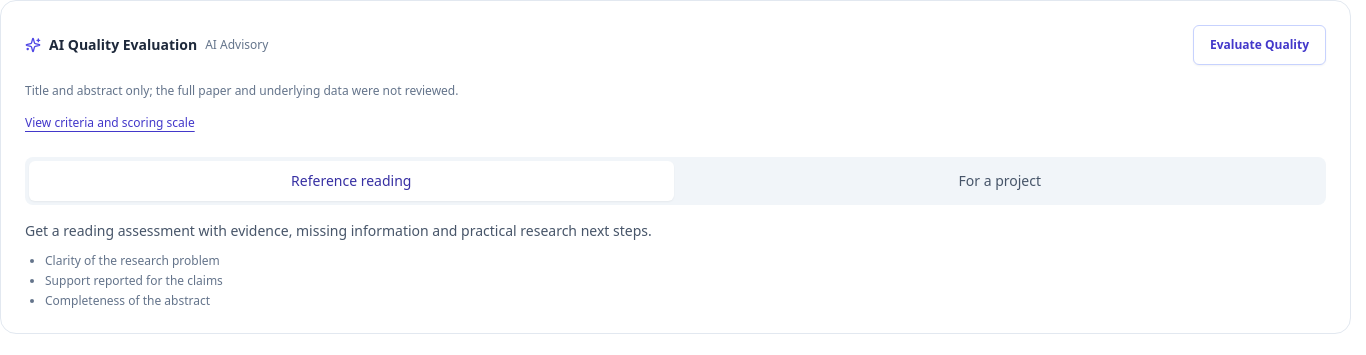
Test case: project mode › explains and links to project creation when the reader has no project
The width and height of the screenshot is (1366, 355).
Click the button "For a project": (1000, 180) [678, 160, 1322, 200]
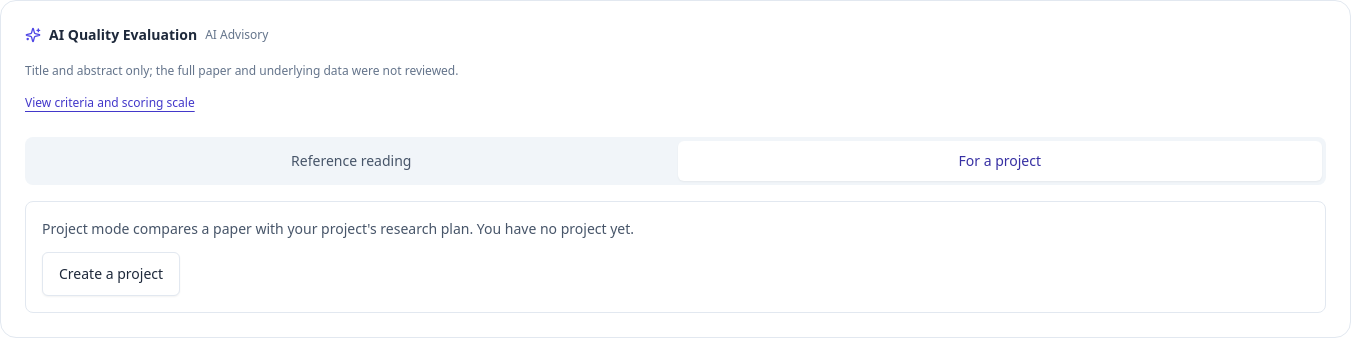
Expected: the text "You have no project yet." is shown, [42, 218, 634, 238]
Expected: the link to "/projects" reads "Create a project", [42, 252, 180, 296]
